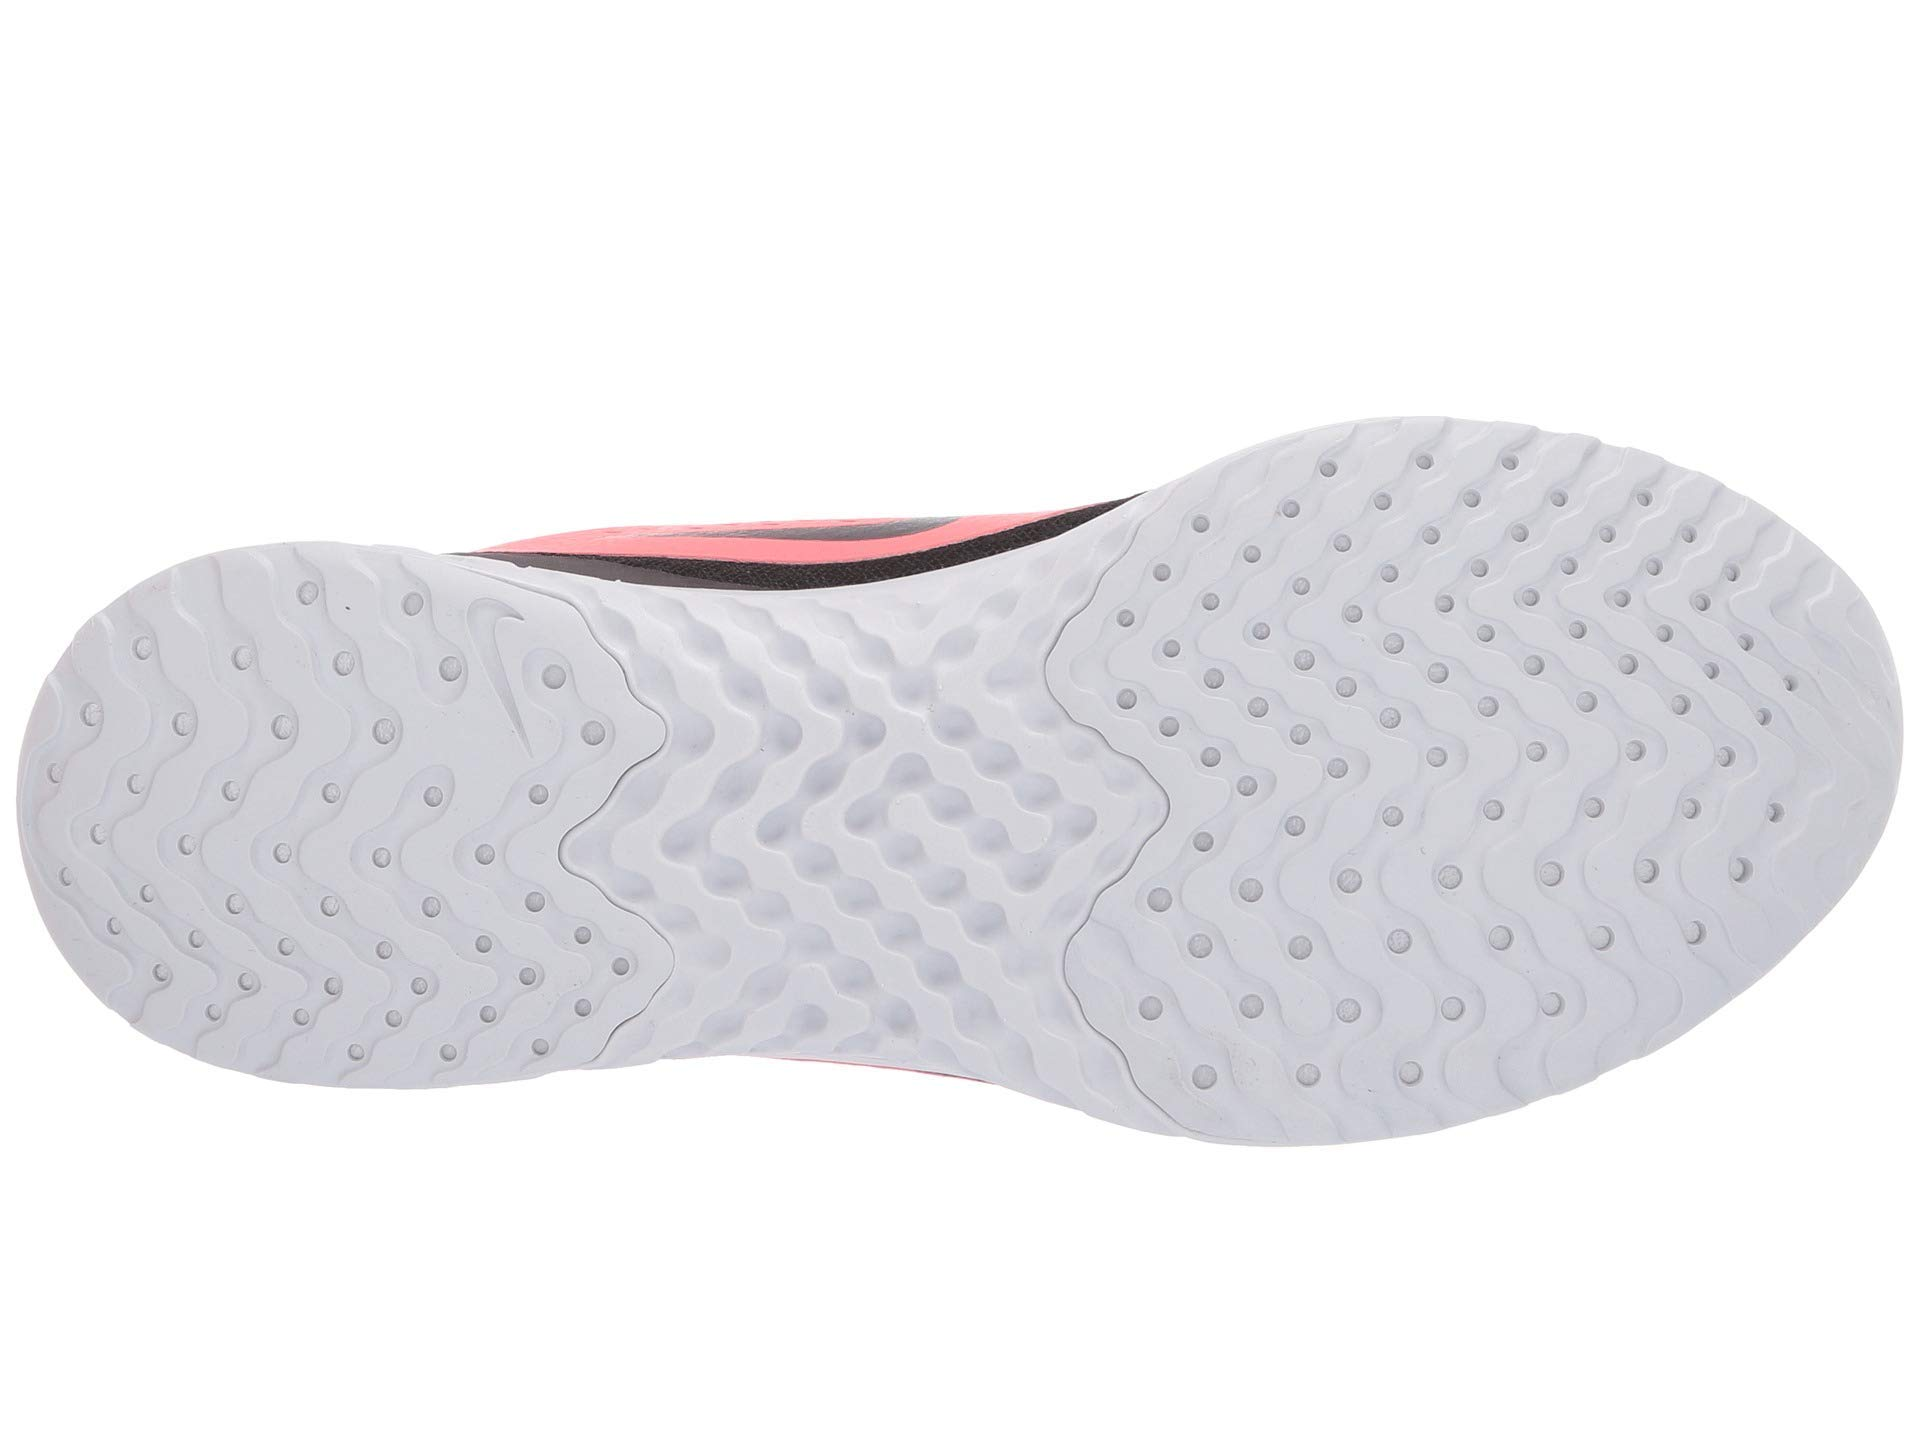chevron: (1534, 643, 1788, 874), (63, 740, 295, 973), (1356, 912, 1584, 1137), (1270, 479, 1479, 670), (706, 670, 890, 852), (1510, 495, 1675, 669), (1229, 703, 1407, 849)
circle: (1209, 846, 1651, 1026), (200, 629, 522, 849), (1197, 476, 1609, 643), (1534, 643, 1788, 874), (63, 740, 295, 973), (1099, 678, 1550, 797), (1356, 912, 1584, 1137), (1596, 649, 1788, 889), (413, 877, 636, 1060), (1270, 479, 1479, 670), (706, 670, 890, 852), (1510, 495, 1675, 669), (1229, 703, 1407, 849)
